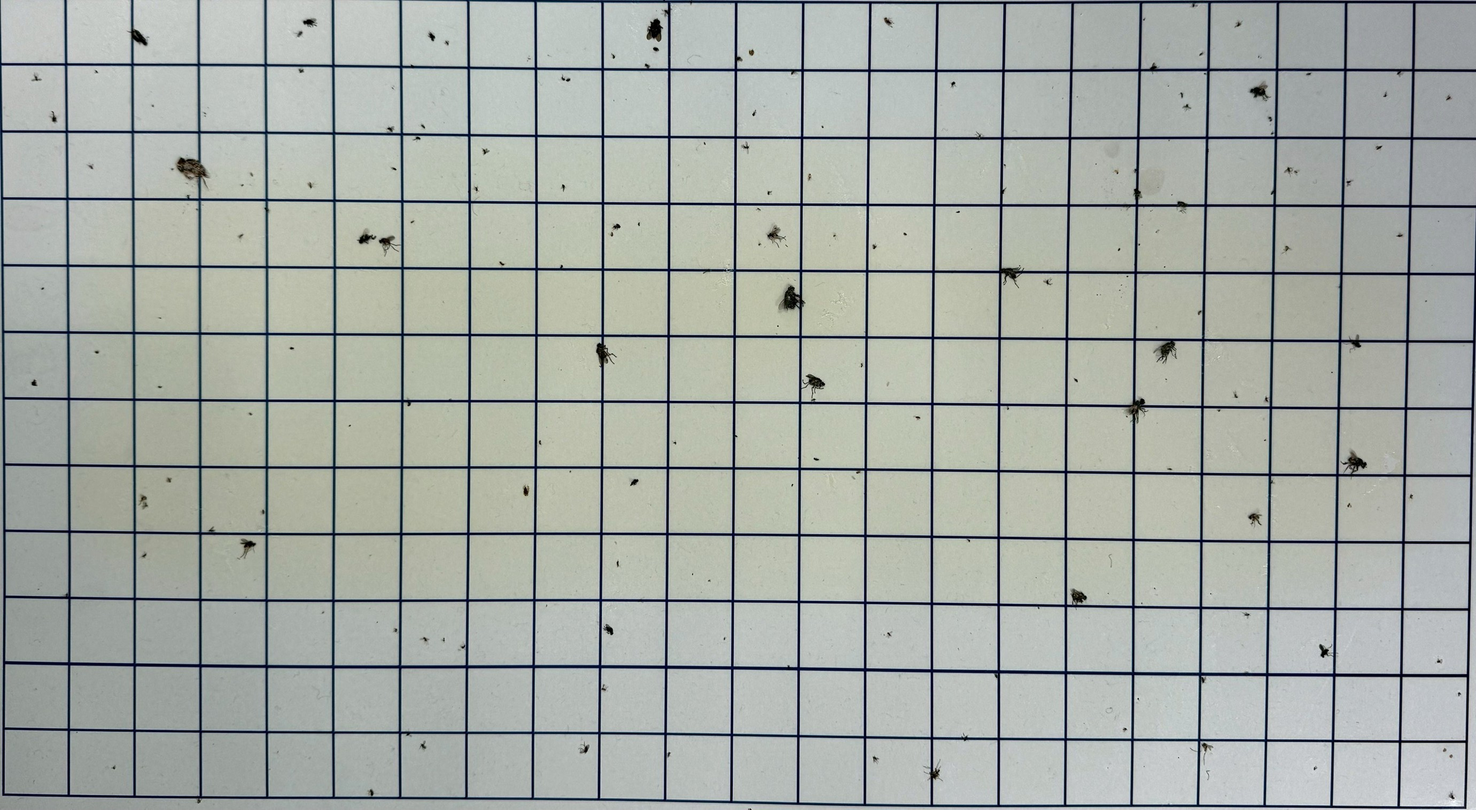fly: (175, 154, 211, 185), (779, 282, 804, 316), (1341, 450, 1369, 475), (1157, 338, 1179, 365), (594, 342, 616, 366), (1126, 398, 1148, 421), (802, 373, 827, 393), (646, 17, 664, 44), (1249, 82, 1274, 100), (999, 265, 1023, 283), (1068, 588, 1089, 605)
test: (128, 26, 150, 49), (378, 234, 400, 254), (238, 536, 255, 561), (918, 765, 944, 781), (766, 226, 786, 244), (1349, 335, 1364, 354), (1320, 644, 1335, 663), (359, 230, 377, 245), (301, 16, 320, 28), (1200, 743, 1212, 762), (1247, 511, 1262, 526), (1175, 201, 1189, 216), (603, 623, 616, 636), (1132, 187, 1145, 200), (50, 108, 60, 123), (30, 72, 41, 84), (579, 744, 590, 756), (628, 476, 640, 487), (883, 16, 893, 28), (1147, 63, 1158, 73), (1282, 244, 1291, 256), (208, 525, 218, 535), (610, 222, 620, 232), (558, 183, 568, 193), (741, 140, 751, 150), (1447, 791, 1457, 801), (521, 484, 529, 496), (1396, 67, 1404, 79), (295, 28, 304, 38), (366, 787, 375, 797), (419, 740, 429, 749), (404, 397, 413, 407), (1286, 166, 1295, 176), (263, 204, 271, 215), (1242, 610, 1250, 621), (663, 7, 671, 18), (428, 32, 437, 41), (1345, 178, 1354, 187), (999, 186, 1007, 196), (1190, 0, 1197, 11), (141, 501, 150, 509), (471, 185, 480, 193), (644, 60, 652, 69), (735, 55, 743, 64), (1234, 20, 1243, 28), (1232, 391, 1240, 400), (963, 734, 971, 743), (1373, 143, 1382, 151), (1394, 231, 1406, 237), (993, 672, 1001, 681), (1200, 676, 1207, 686), (236, 231, 244, 239), (1305, 70, 1313, 78), (609, 52, 617, 60), (297, 67, 304, 76), (307, 181, 314, 190), (420, 121, 427, 130), (481, 146, 488, 155), (421, 636, 430, 643), (404, 728, 410, 738), (601, 684, 607, 694), (561, 76, 571, 82), (30, 377, 37, 385), (386, 124, 393, 132), (259, 508, 267, 515), (459, 642, 467, 649), (749, 45, 756, 53), (790, 70, 798, 77), (1182, 103, 1190, 110), (1178, 90, 1185, 98), (914, 414, 922, 421), (1381, 91, 1388, 99), (1441, 746, 1448, 754), (751, 109, 758, 117), (248, 411, 255, 419), (948, 82, 957, 88), (975, 132, 984, 138), (1197, 308, 1203, 317), (807, 170, 812, 180), (40, 284, 45, 294), (391, 164, 398, 171), (871, 755, 878, 762), (93, 68, 100, 75), (1346, 502, 1353, 509), (64, 592, 71, 599), (92, 348, 100, 354), (139, 494, 147, 500), (444, 40, 450, 48), (872, 243, 878, 251), (559, 264, 565, 272), (409, 218, 415, 226), (185, 193, 191, 201), (88, 163, 94, 170), (652, 45, 659, 51), (1199, 50, 1205, 57), (1267, 115, 1274, 121), (1445, 94, 1452, 100), (1448, 753, 1455, 759), (813, 456, 820, 462), (955, 208, 962, 214), (902, 230, 908, 237), (1269, 189, 1275, 196), (757, 241, 763, 248), (1268, 480, 1275, 486), (1312, 766, 1318, 773), (1202, 71, 1209, 77), (142, 551, 147, 559), (413, 135, 421, 140), (616, 558, 620, 568), (1265, 394, 1270, 402), (1271, 129, 1276, 137), (290, 345, 296, 351), (1436, 657, 1442, 663), (1073, 377, 1079, 383), (1167, 466, 1173, 472), (766, 190, 772, 196), (820, 124, 826, 130), (239, 182, 245, 188), (732, 433, 738, 439), (966, 537, 972, 543), (1133, 167, 1139, 173), (1123, 726, 1129, 732), (393, 627, 399, 633), (441, 637, 447, 643), (196, 798, 202, 804), (668, 751, 673, 758), (1456, 691, 1463, 696), (860, 362, 865, 369), (538, 439, 543, 446), (854, 469, 861, 474), (1114, 169, 1119, 176), (609, 231, 614, 238), (756, 207, 763, 212), (832, 233, 837, 240), (498, 262, 506, 266), (165, 477, 171, 482), (1046, 281, 1051, 287), (1409, 493, 1414, 499), (672, 440, 677, 446), (1117, 247, 1122, 253), (637, 221, 642, 227), (811, 398, 817, 403), (249, 171, 254, 177), (1216, 407, 1221, 413), (1002, 162, 1007, 168), (1141, 17, 1147, 22), (112, 764, 116, 771), (886, 631, 891, 636), (347, 423, 352, 428), (790, 482, 795, 487), (157, 316, 162, 321), (320, 610, 325, 615), (1006, 405, 1010, 411), (157, 384, 162, 388), (703, 141, 707, 146), (150, 103, 155, 107), (1124, 274, 1129, 278), (1138, 242, 1142, 246), (1264, 438, 1267, 443)
